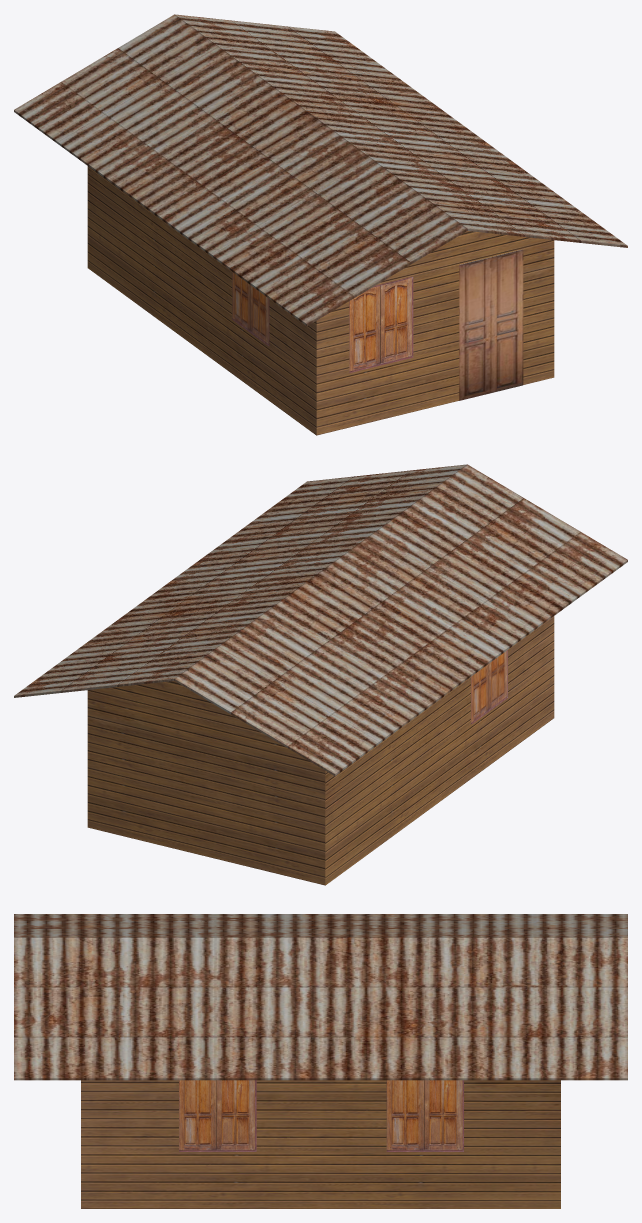
Rendered from House1.fbx.
The picture shows the model from 3 angles, top to bottom: view 1: azimuth 30°, elevation 25°; view 2: azimuth 150°, elevation 25°; view 3: azimuth 270°, elevation 25°; orthographic projection. The views are drawn at different scales.
Parts seen in each view (by area): view 1: House 1; view 2: House 1; view 3: House 1.
Boxes of the visible parts, x1,y1,x2,y2 form: House 1: (14, 14, 627, 435); House 1: (14, 464, 627, 885); House 1: (14, 914, 627, 1208).
Size of the model in its own units: 547 by 327 by 864.
Materials: 1 (1 with a texture image).
